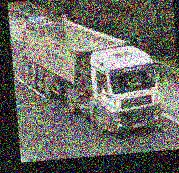truck: (22, 15, 164, 141)
